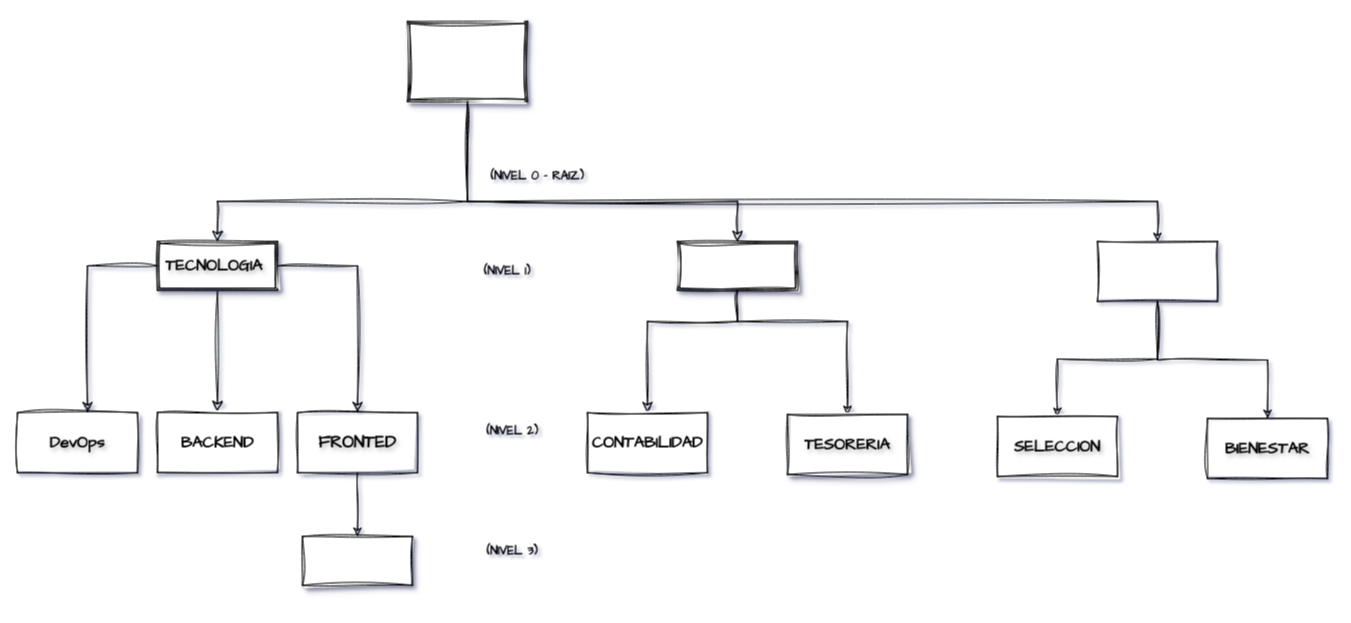
Image size: 1351x623. Some labels were removed from this diagram. The shapes that lost their labels are listed below. From the top down, each one's centre as x and y in pixels, then its label:
the point at 468,62: EMPRESA
the point at 738,266: FINANZAS
the point at 1157,271: RECURSOS HUMANOS
the point at 358,562: React Special
